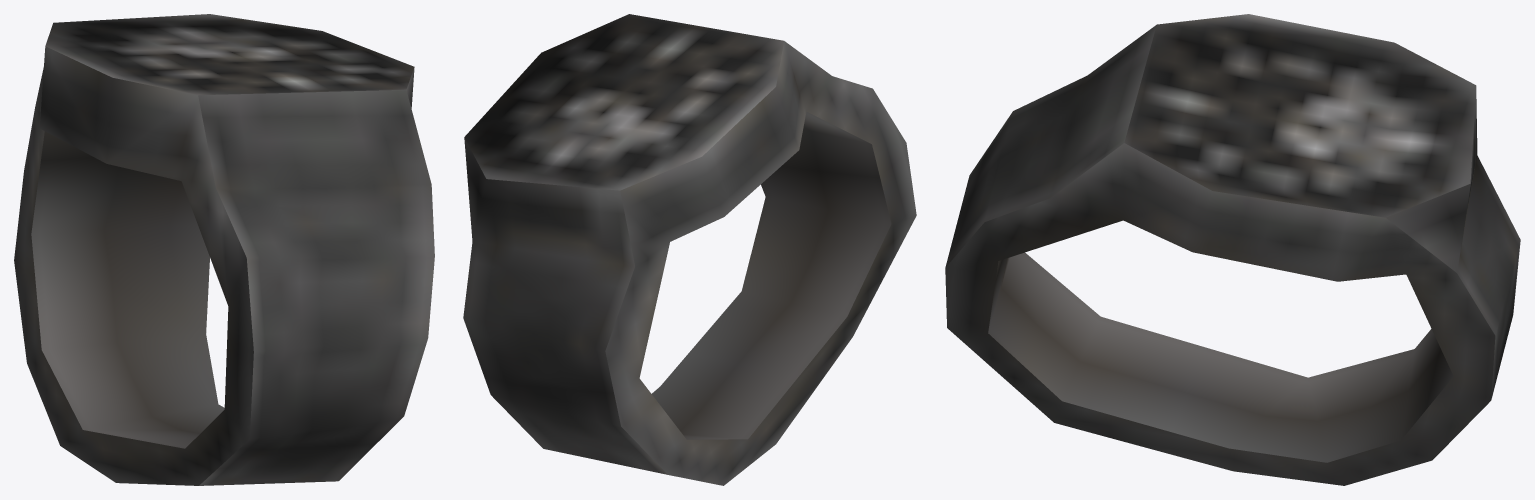
File: F_GunRunnersWatch.fbx
The picture shows the model from 3 angles, left to right: view 1: azimuth 30°, elevation 25°; view 2: azimuth 150°, elevation 25°; view 3: azimuth 270°, elevation 25°; orthographic projection. The views are drawn at different scales.
Visible parts, largest first — view 1: GunRunnerWatch; view 2: GunRunnerWatch; view 3: GunRunnerWatch.
Part boxes in pixels (left/top/right/bottom): GunRunnerWatch: left=14, top=14, right=434, bottom=485; GunRunnerWatch: left=463, top=14, right=916, bottom=485; GunRunnerWatch: left=945, top=14, right=1520, bottom=485.
Bounding box in the file's own units: 0.0328 × 0.0445 × 0.0563.
